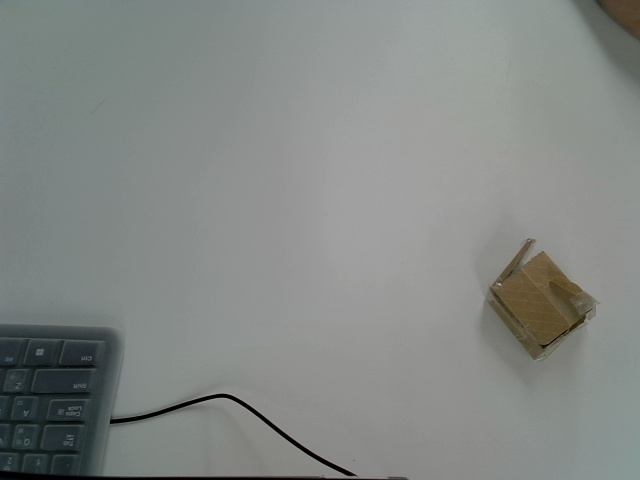defect: (485, 238, 600, 359)
